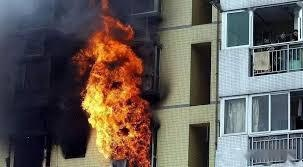fire: (74, 6, 156, 160)
